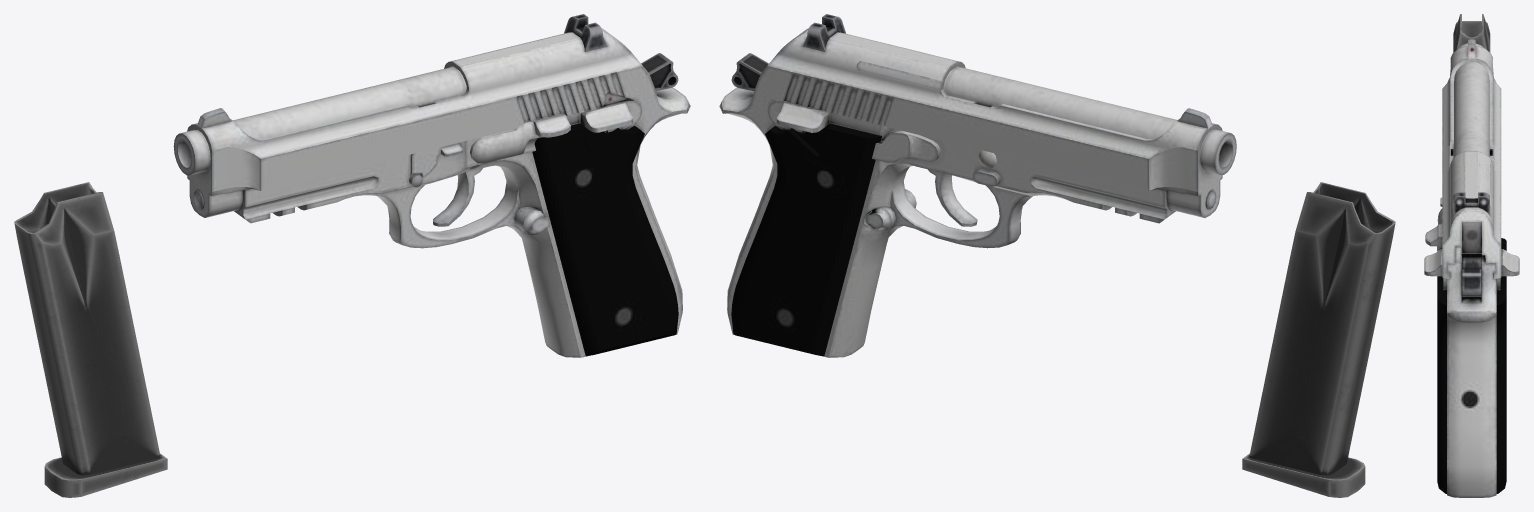
Rendered from pistol.glb.
3 views of the same model, side by side, from view 1: azimuth 30°, elevation 25°; view 2: azimuth 150°, elevation 25°; view 3: azimuth 270°, elevation 25° (orthographic). The views are drawn at different scales.
Visible parts, largest first — view 1: slider (×2), magazine, grip2, frame, cano, decocker, gatilho, sight, desasemble, Martelo, mag; view 2: magazine, slider, grip, frame, cano, guia, decocker2, gatilho, detalhe, sight, Martelo; view 3: frame, slider (×2), cano, grip, grip2, magazine, Martelo, sight, decocker2, decocker, detalhe.
Part boxes in pixels (x1,y1,x2,y2): slider (×2): (187,28,656,217); magazine: (14,182,167,497); grip2: (532,123,678,356); frame: (234,87,690,357); cano: (173,66,466,175); decocker: (580,99,642,132); gatilho: (433,168,482,226); sight: (564,14,607,52); desasemble: (410,142,462,176); Martelo: (641,53,678,90); mag: (514,207,550,234); magazine: (1242,182,1395,497); slider: (753,28,1222,217); grip: (731,123,881,356); frame: (719,88,1175,357); cano: (943,66,1236,174); guia: (872,130,940,162); decocker2: (767,100,829,132); gatilho: (928,169,977,226); detalhe: (857,61,944,90); sight: (803,14,846,51); Martelo: (731,53,768,90); frame: (1447,143,1496,497); slider (×2): (1425,39,1501,278); cano: (1453,43,1489,157); grip: (1496,238,1506,493); grip2: (1437,246,1446,493); magazine: (1453,14,1490,52); Martelo: (1462,257,1481,296); sight: (1453,192,1489,214); decocker2: (1497,249,1519,290); decocker: (1424,249,1446,290); detalhe: (1490,159,1493,198).
Bounding box in the file's own units: 2 × 0.9847 × 0.2979.
Materials: 2 (2 with a texture image).
